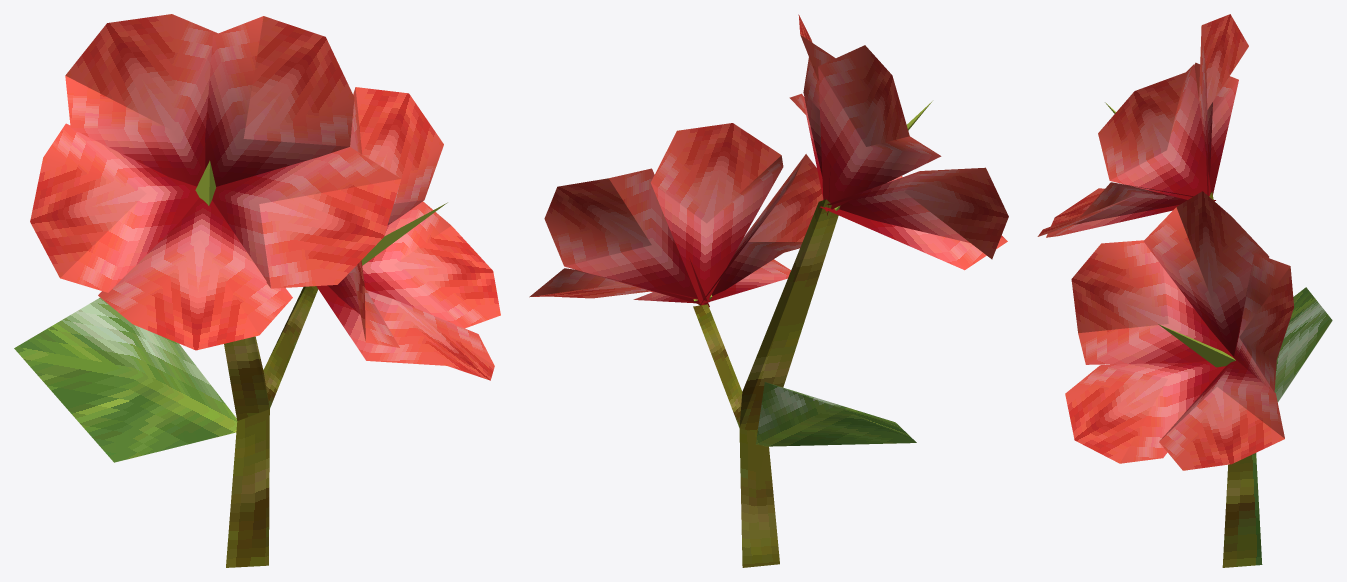
File: Hibiscus.glb
3 renders of one model, left to right at view 1: azimuth 30°, elevation 25°; view 2: azimuth 150°, elevation 25°; view 3: azimuth 270°, elevation 25°, orthographic. The views are drawn at different scales.
Parts seen in each view (by area): view 1: gFlrHibis; view 2: gFlrHibis; view 3: gFlrHibis.
Boxes of the visible parts, left/top/right/bottom form: gFlrHibis: left=14, top=14, right=500, bottom=567; gFlrHibis: left=529, top=14, right=1008, bottom=567; gFlrHibis: left=1037, top=14, right=1332, bottom=567.
Bounding box in the file's own units: 1.88 × 2.15 × 1.16.
Materials: 1 (1 with a texture image).
